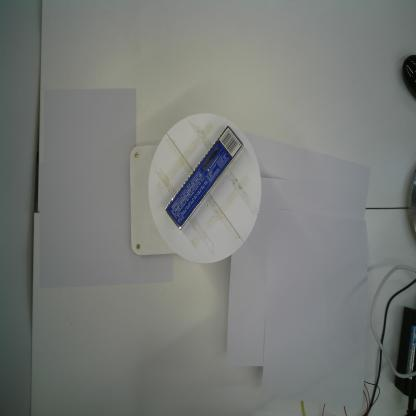Personal Hygiene: (164, 123, 244, 231)
